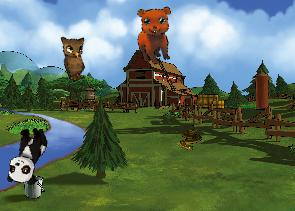bear: (129, 1, 184, 68)
owl: (55, 30, 97, 83)
panda: (4, 122, 50, 188)
